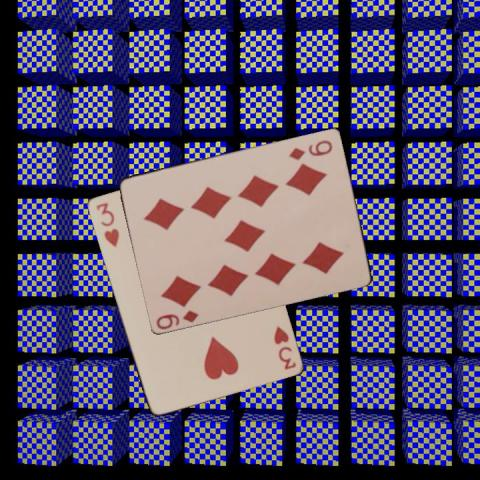3h: (92, 199, 120, 248), (270, 323, 297, 371)
9d: (286, 137, 334, 161), (153, 307, 201, 330)
